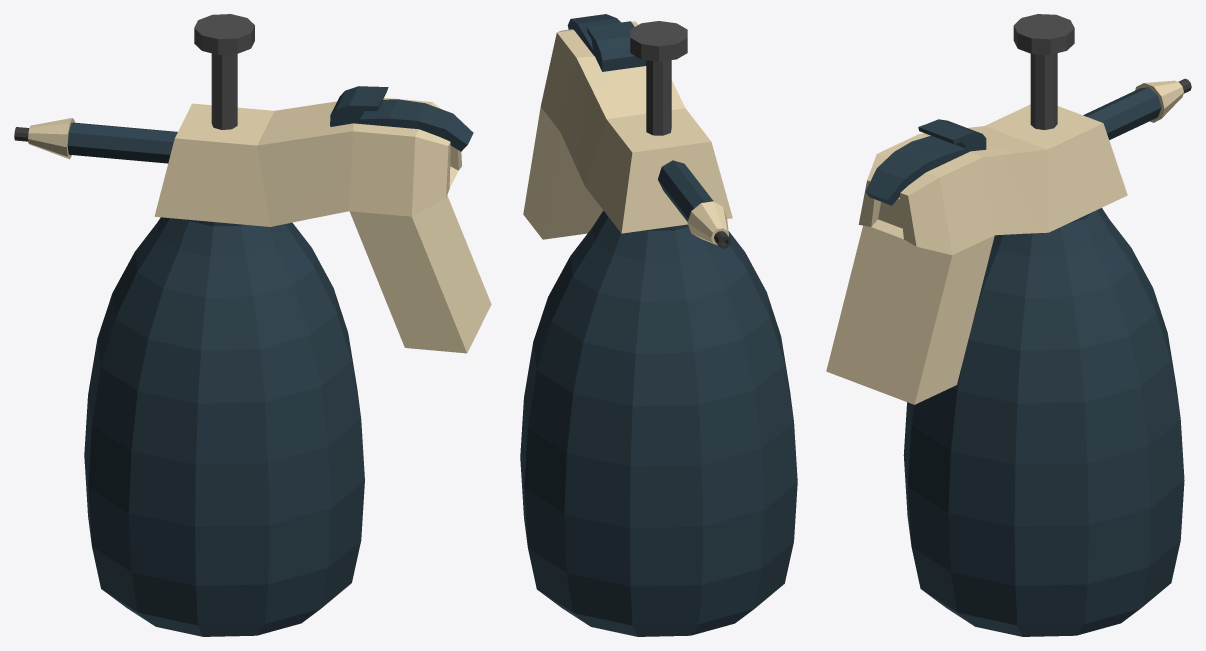
The model's file is semprotan.fbx.
3 views of the same model, side by side, from view 1: azimuth 30°, elevation 25°; view 2: azimuth 150°, elevation 25°; view 3: azimuth 270°, elevation 25° (orthographic).
Visible parts, largest first — view 1: SPR_Tank; view 2: SPR_Tank; view 3: SPR_Tank.
Part boxes in pixels (bbox=[...]): SPR_Tank: bbox=[14, 14, 491, 636]; SPR_Tank: bbox=[520, 14, 797, 636]; SPR_Tank: bbox=[826, 14, 1191, 636].
Size of the model in its own units: 43.42 by 69.96 by 39.98.
